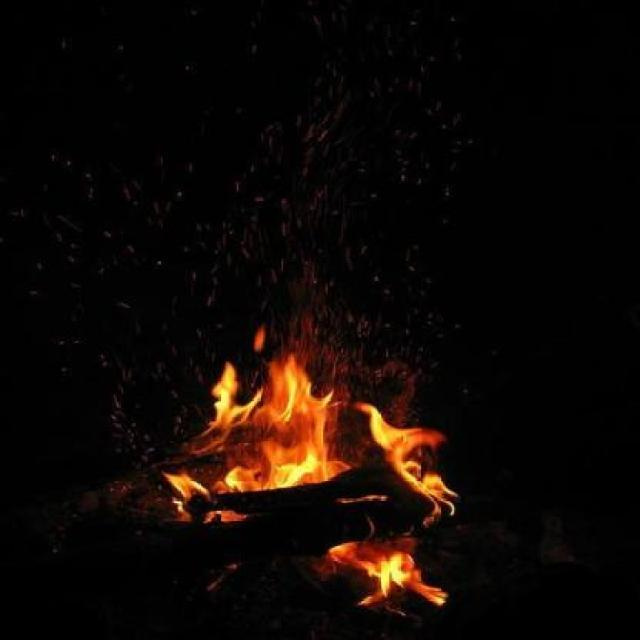Fire: (154, 322, 458, 614)
